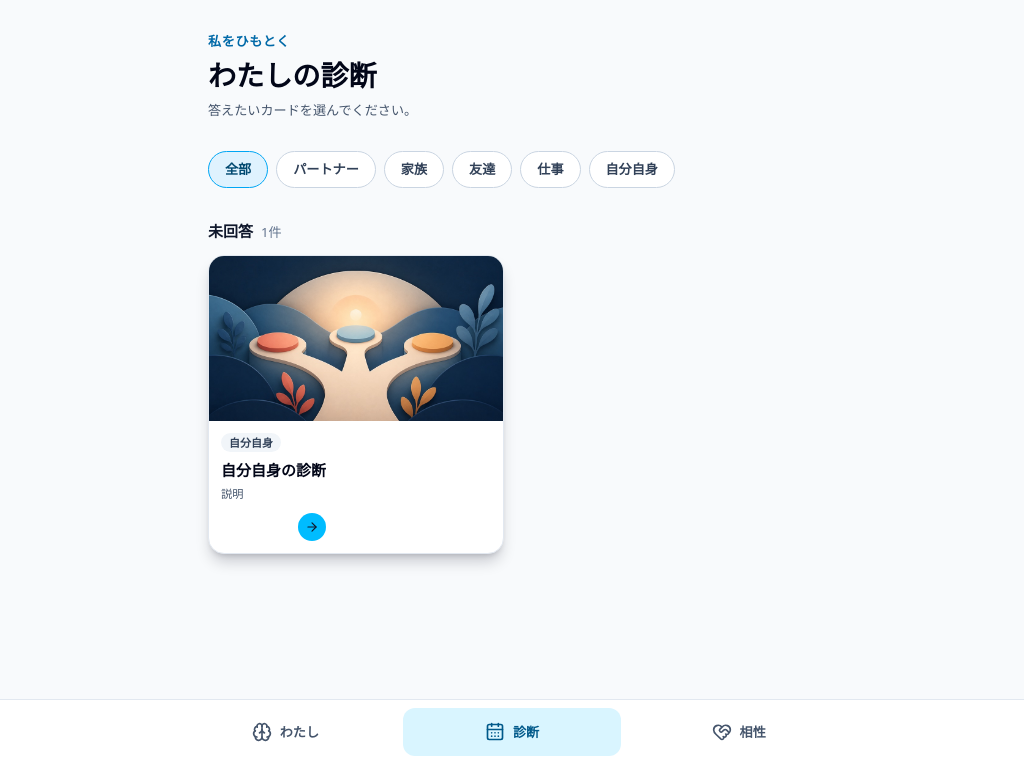
Test: DiagnosisHome › カテゴリが1種類だけでも全カテゴリの絞り込みを表示する
Expected: the button "自分自身" is shown, [588,151,675,188]
Expected: the text "自分自身" is shown, [221,433,281,452]
Click the button "パートナー" at (326, 170), box [276,151,376,188]
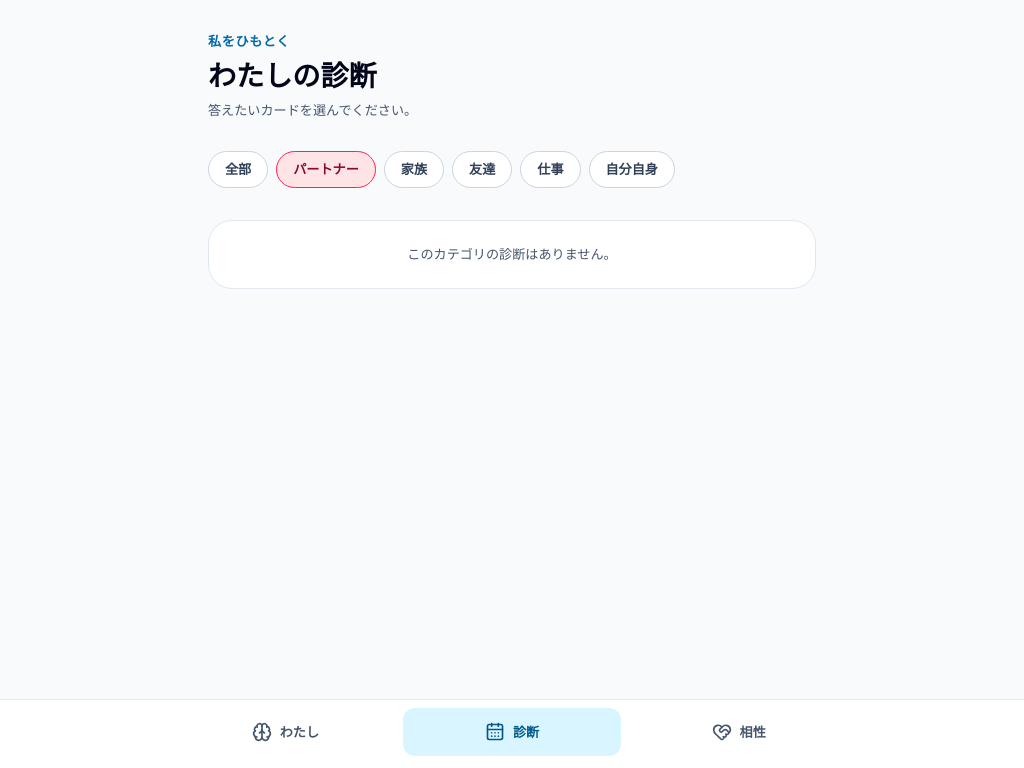
Expected: the text "このカテゴリの診断はありません。" is shown, [208,220,816,289]
Click the button "自分自身" at (632, 170), box [588,151,675,188]
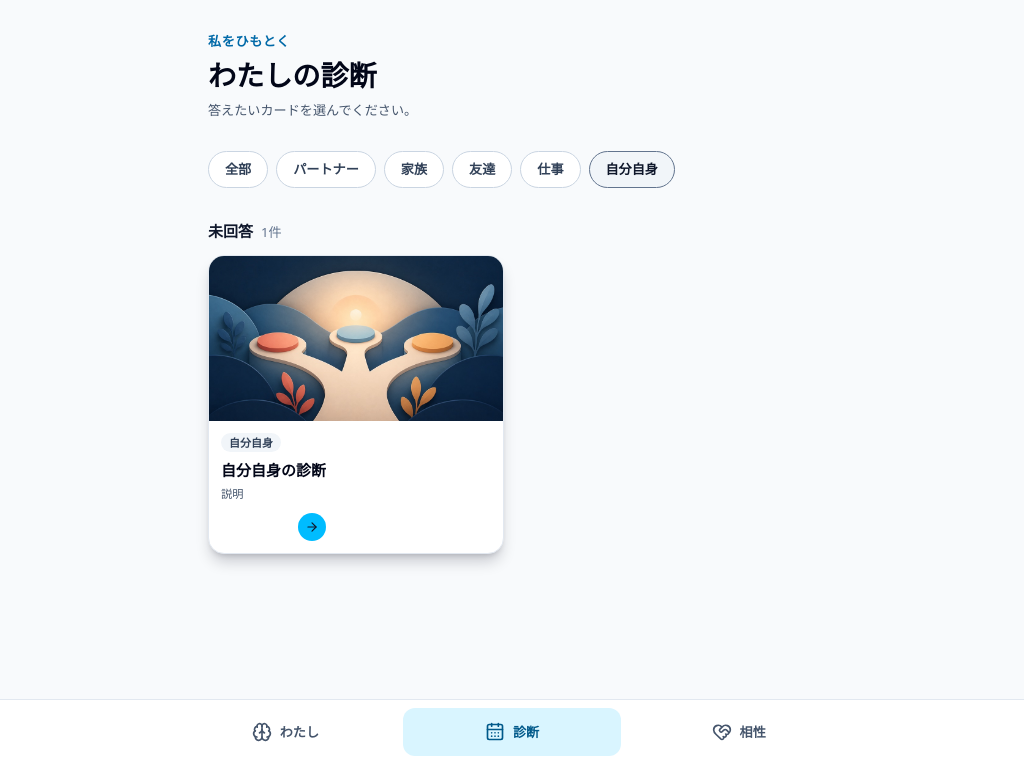
Expected: the button "自分自身 自分自身の診断 説明" is shown, [208,254,504,554]
